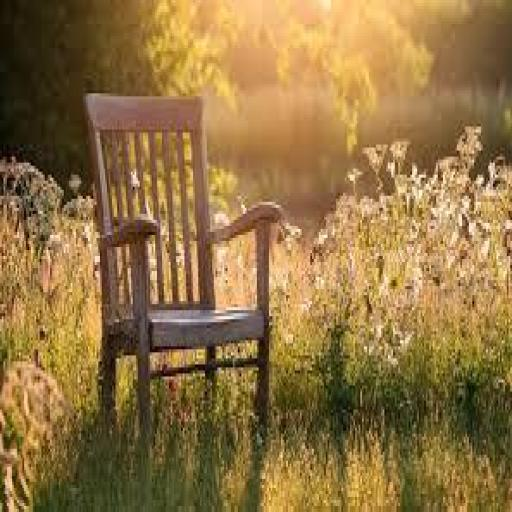chair: (78, 77, 289, 447)
